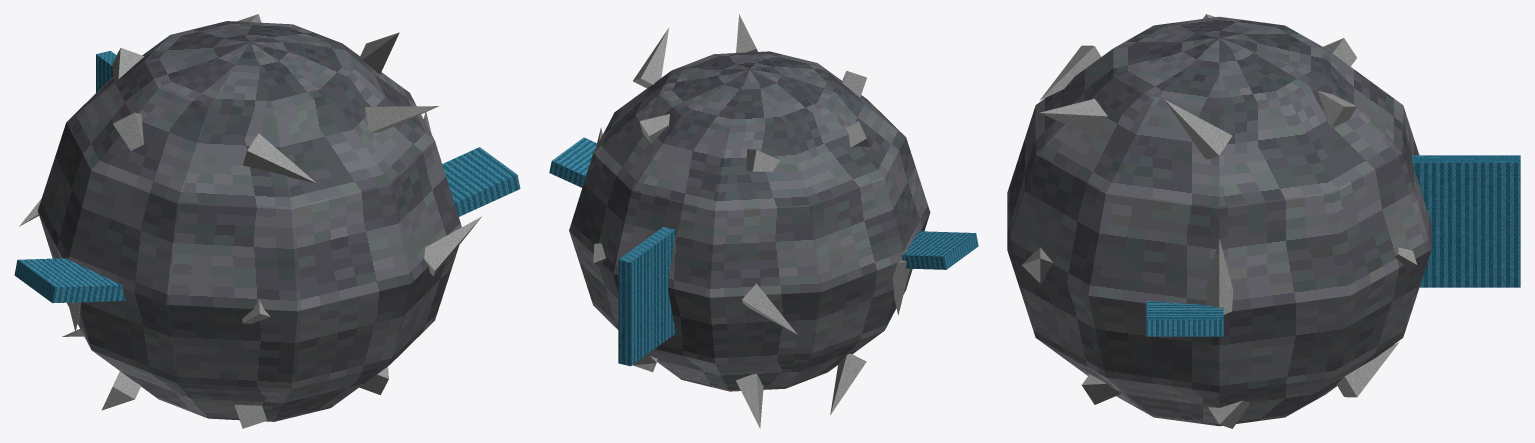
The model's file is peixe_pedra_abissal.glb.
3 views of the same model, side by side, from view 1: azimuth 30°, elevation 25°; view 2: azimuth 150°, elevation 25°; view 3: azimuth 270°, elevation 25° (orthographic). The views are drawn at different scales.
Visible parts, largest first — view 1: peixe_pedra_abissal; view 2: peixe_pedra_abissal; view 3: peixe_pedra_abissal.
Boxes of the visible parts, bbox=[...] form: peixe_pedra_abissal: bbox=[14, 14, 520, 428]; peixe_pedra_abissal: bbox=[549, 14, 978, 428]; peixe_pedra_abissal: bbox=[1007, 14, 1520, 428].
Bounding box in the file's own units: 0.6737 × 0.4939 × 0.6263.
Materials: 1 (1 with a texture image).
